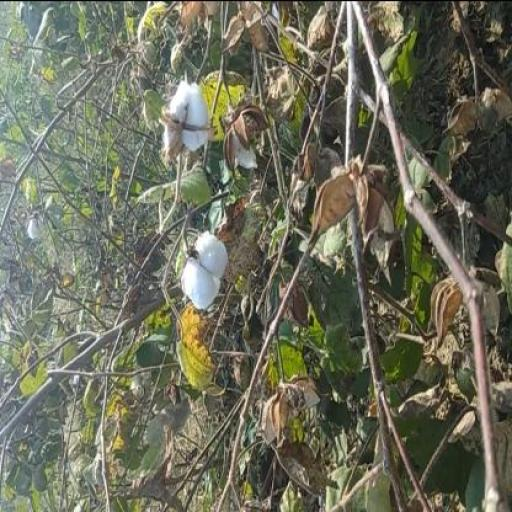cotton_ready: (152, 68, 238, 189), (180, 211, 248, 326)
